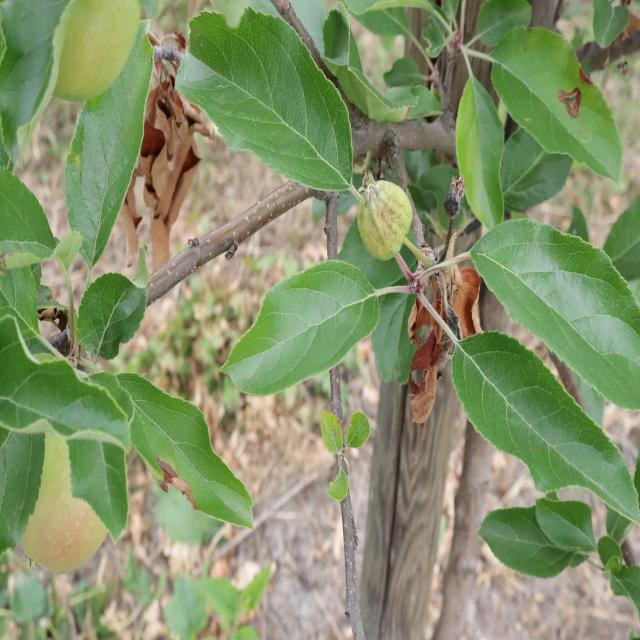-FireBlight-: (412, 247, 484, 418), (140, 63, 198, 260)
